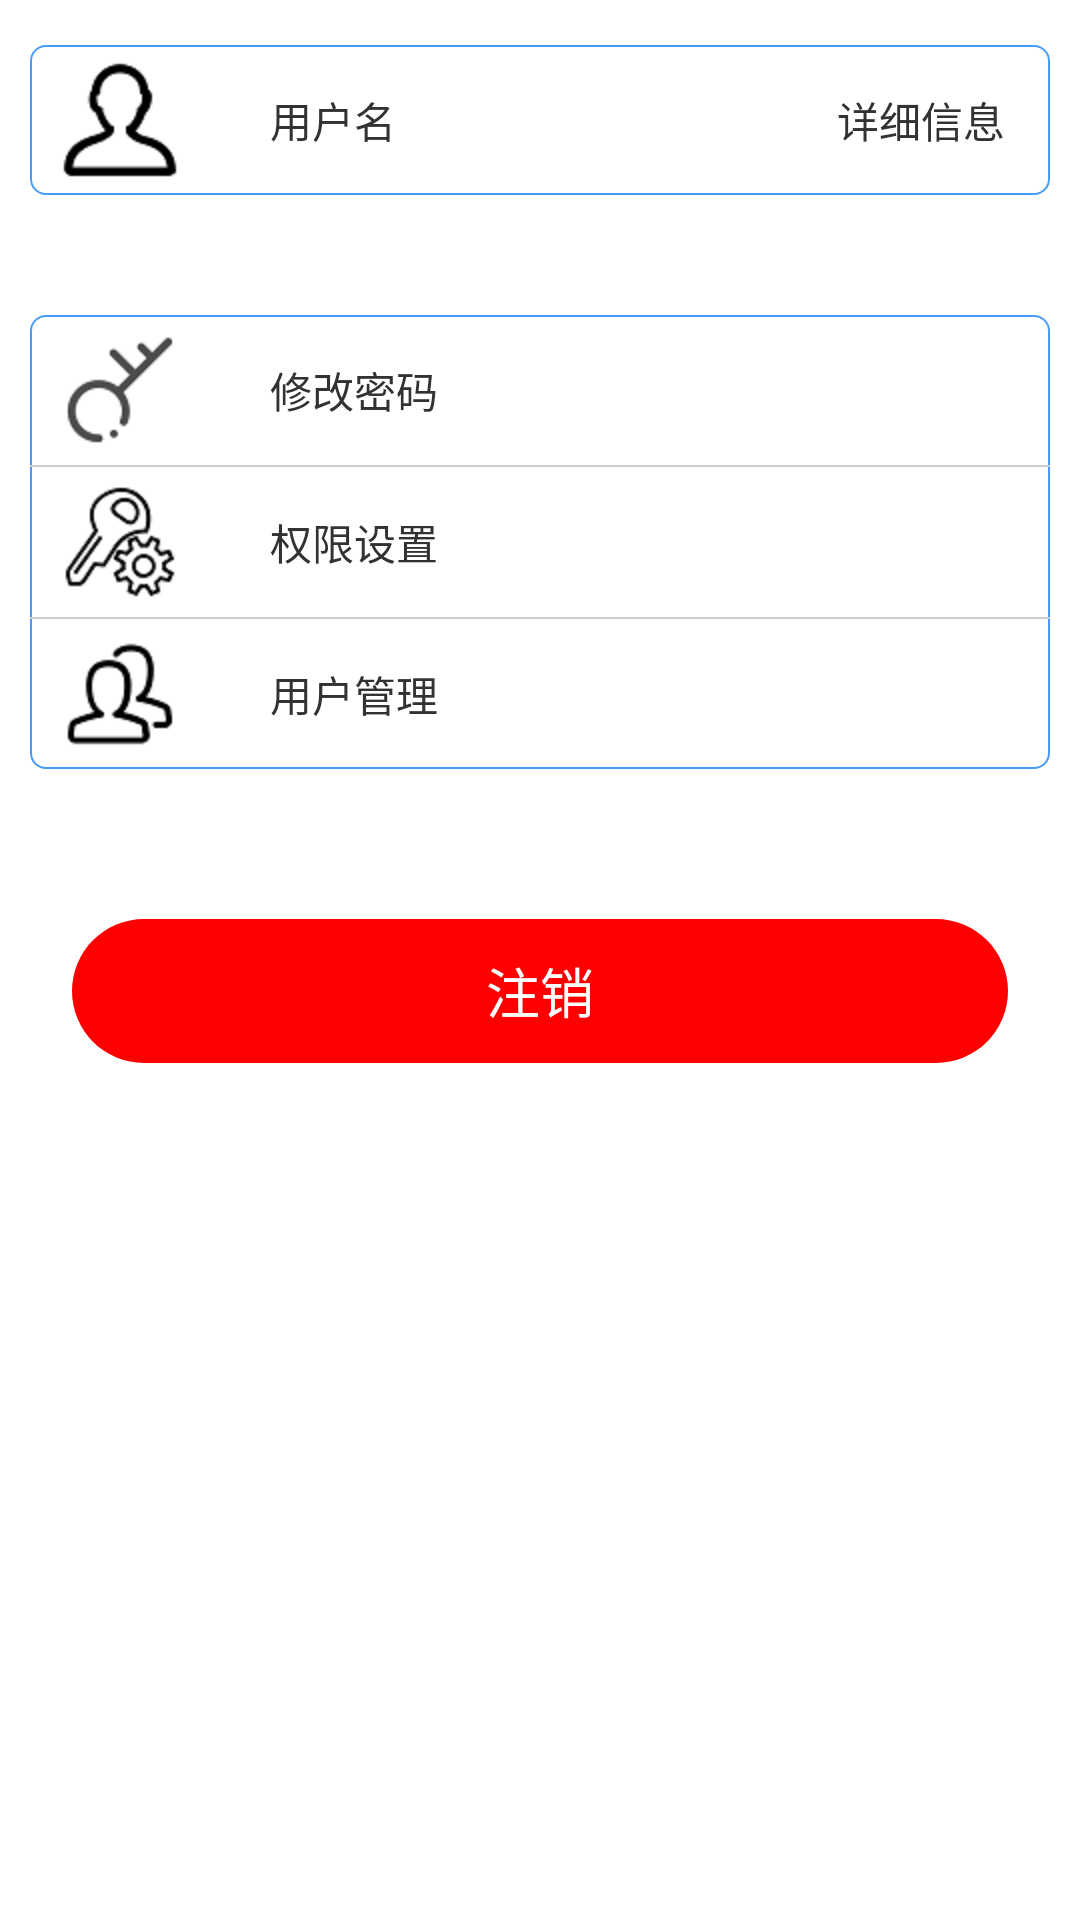

Screen size 1080x1920. Icon name, then its box in pixels as (x1, y1, x2, y2):
editpassword: (67, 337, 173, 443)
permissionset: (65, 487, 175, 597)
usermanage: (67, 643, 173, 745)
